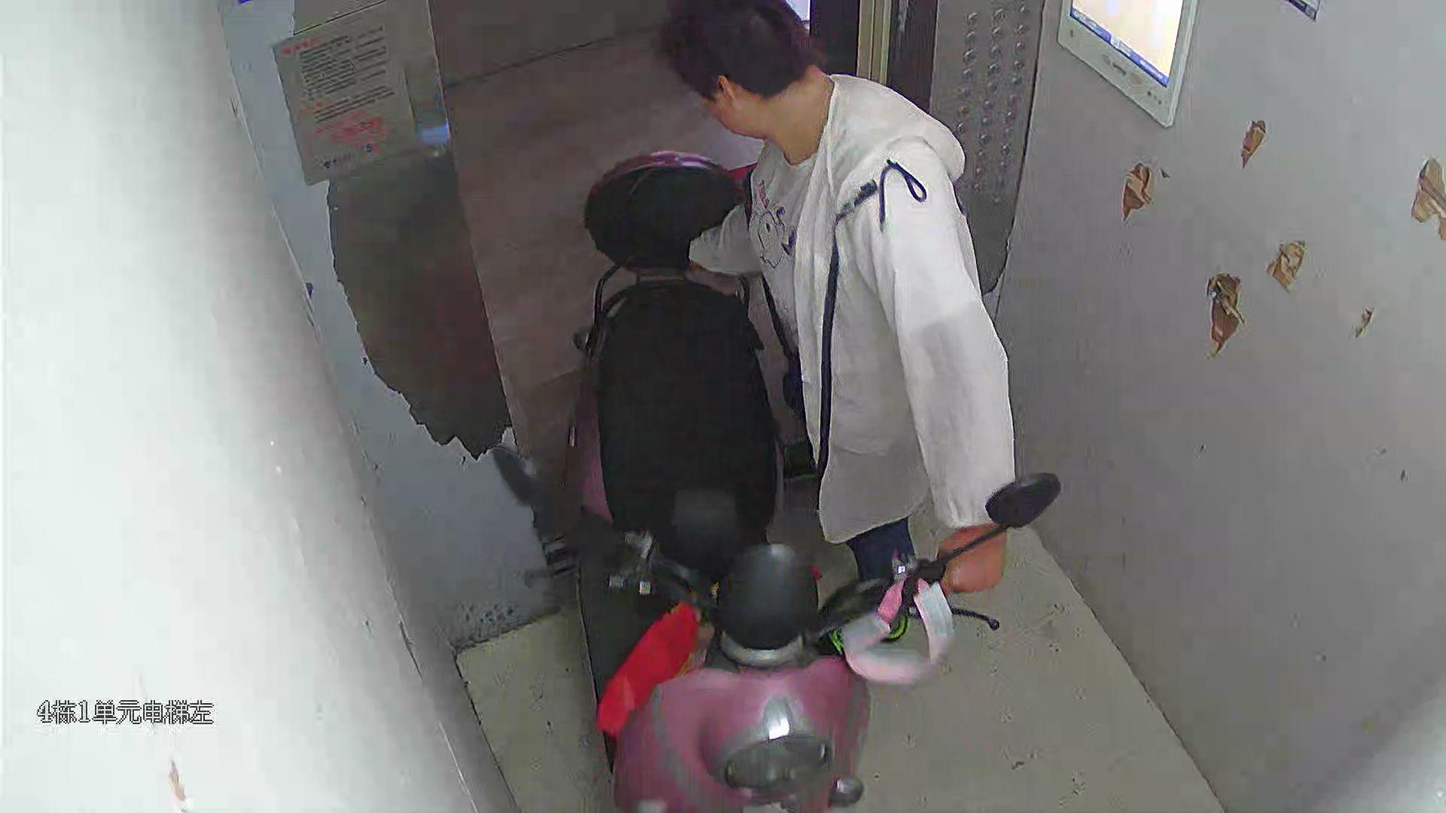Electric-bicycle: (494, 145, 1060, 808)
